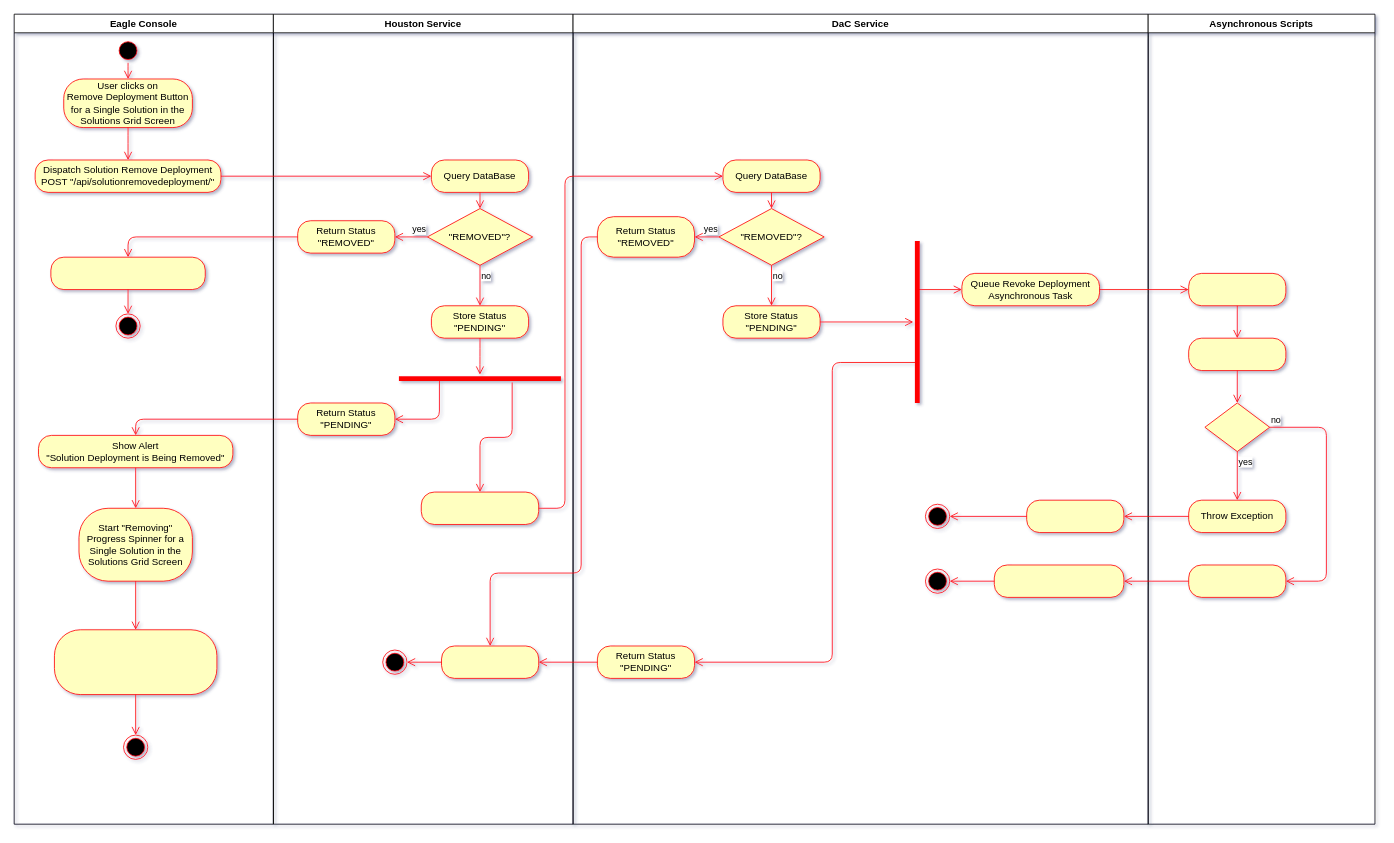
This 1394x843 diagram has some shape labels left out. Each missing label, with the centre of its shape:
Dispatch Solution Remove Deployment: (479,507)
Exception?: (1237,427)
Remove Resources: (1237,354)
Return Result: (1237,580)
Show Alert "Solution Deployment Removed": (127,273)
Start Background Asynchronous "CheckSolutionDeployments" Action: (135,662)
Start Deployment Scripts: (1237,289)
Store Received Data: (490,661)
Store Status "FAILURE": (1075,516)
Store Status "REMOVED": (1058,580)
